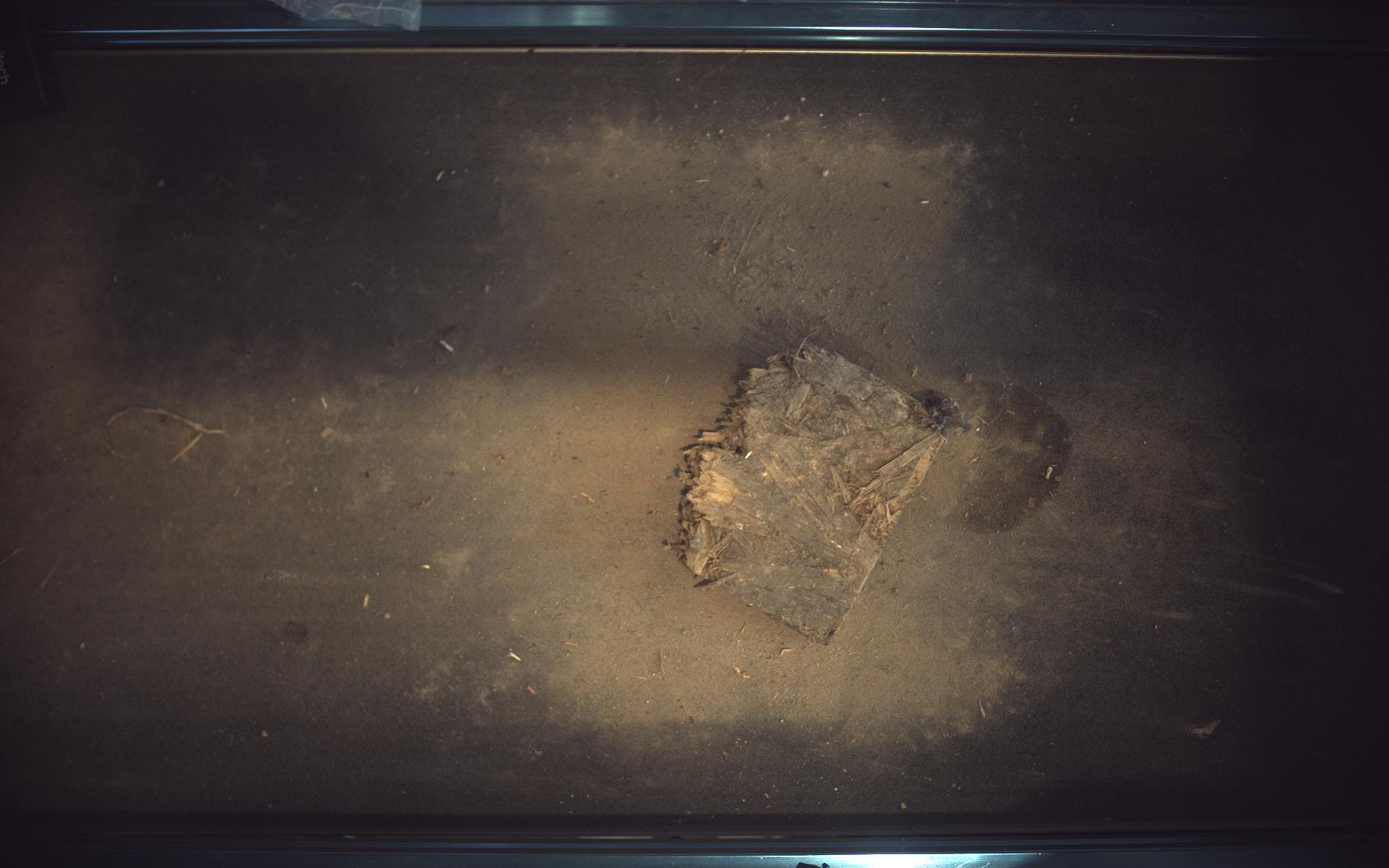wood: (675, 341, 964, 642)
